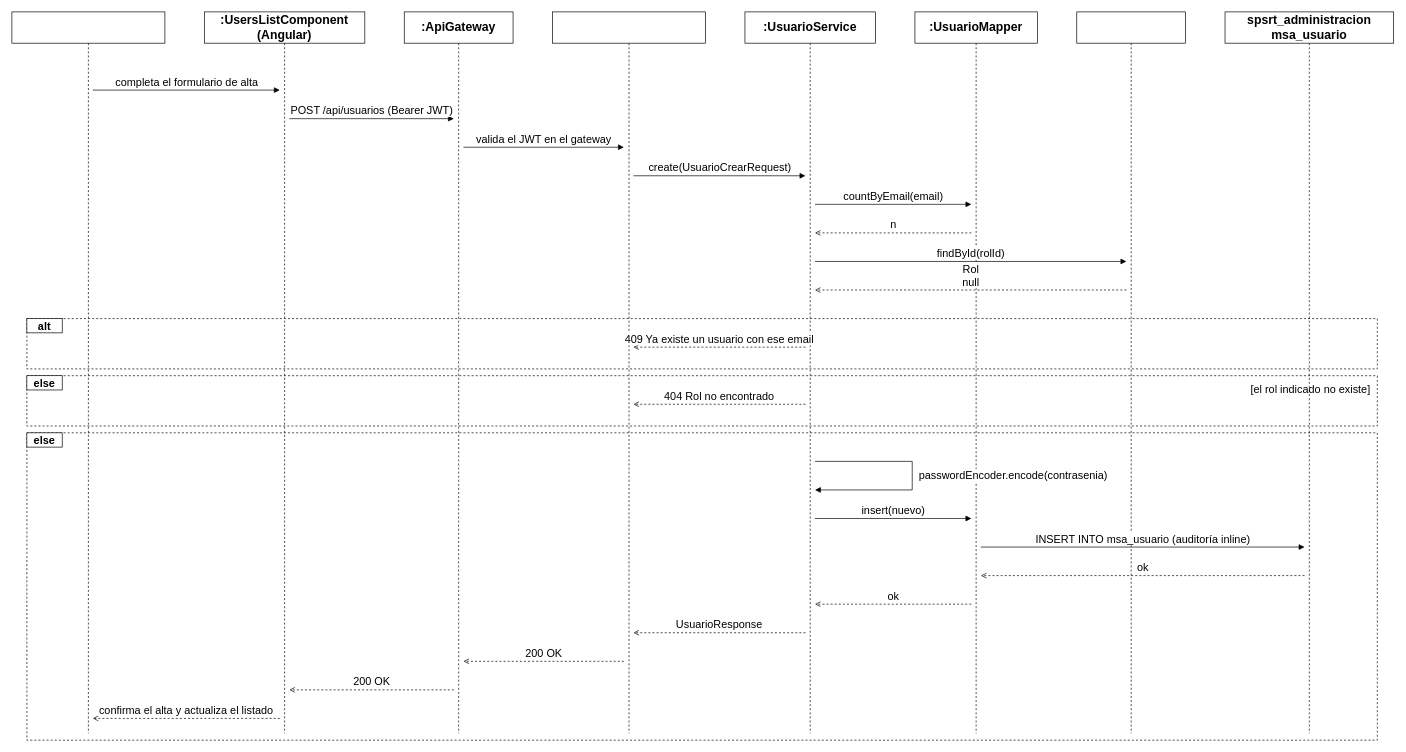
The diagram is 1406 pixels wide and 752 high, and some of its shapes have lost their labels. Each missing label, with the box of its shape:
:RolMapper: (1076, 11, 1186, 733)
:UsuarioController: (552, 11, 706, 733)
[datos válidos]: (26, 432, 1377, 740)
[ya existe un usuario activo con ese correo]: (26, 318, 1377, 369)
A4 : Administrador: (11, 11, 165, 733)
